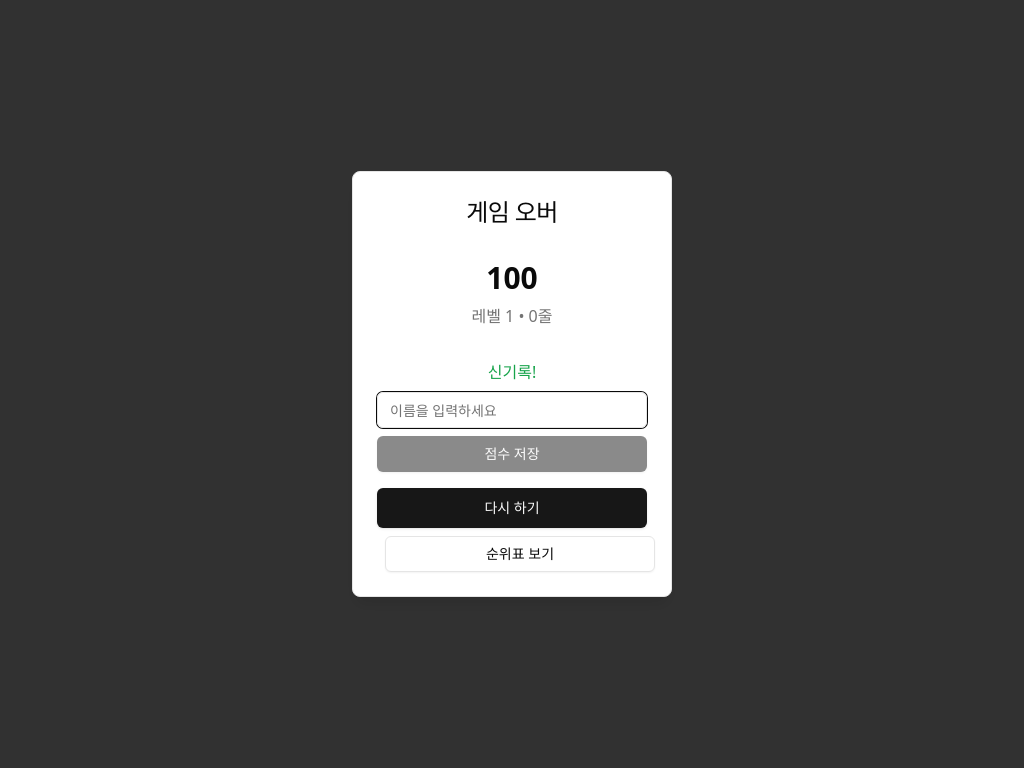
Test: score persistence result › reports failure instead of claiming a rejected save succeeded
The width and height of the screenshot is (1024, 768).
Type "Player" into the field with placeholder "이름을 입력하세요" at (512, 410), box [377,392,647,428]
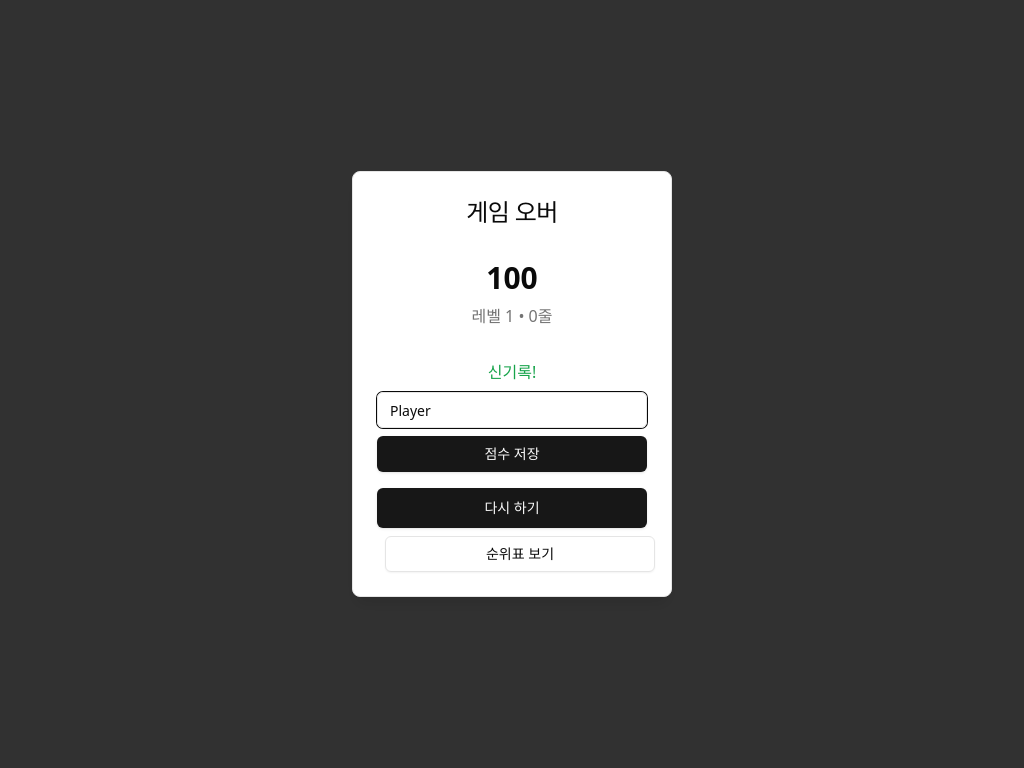
Click the button "점수 저장" at (512, 454), box [377,436,647,472]
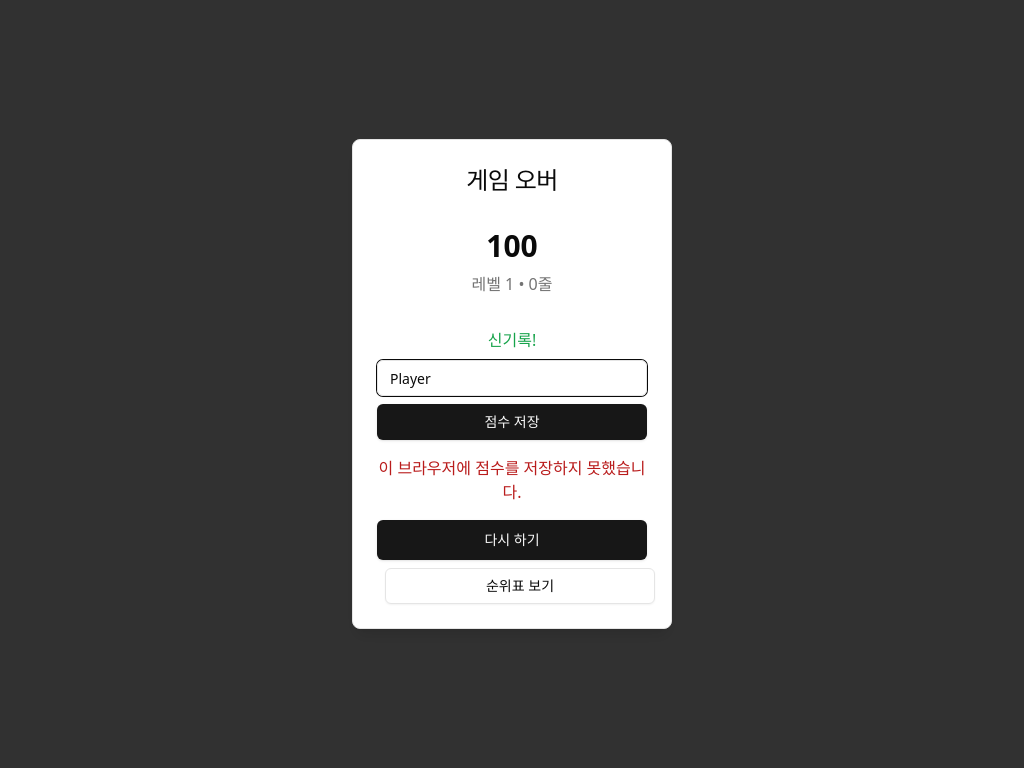
Check: the message shows "저장하지 못했습니다", box [378,457,645,503]
